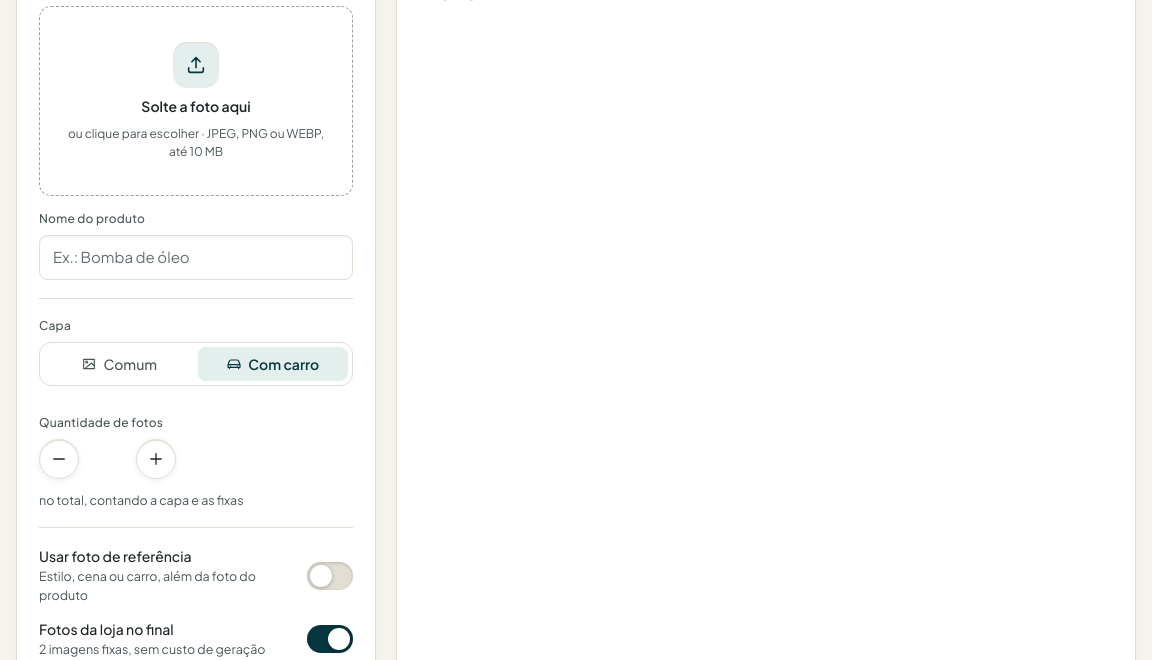
Test case: BuildKit: quantidade › o resumo diz quantas fotos serão geradas e quantas são fixas
Click the switch named "Fotos da loja no final" at x=330, y=639, box 307,625 -> 353,653
(page scrolled)
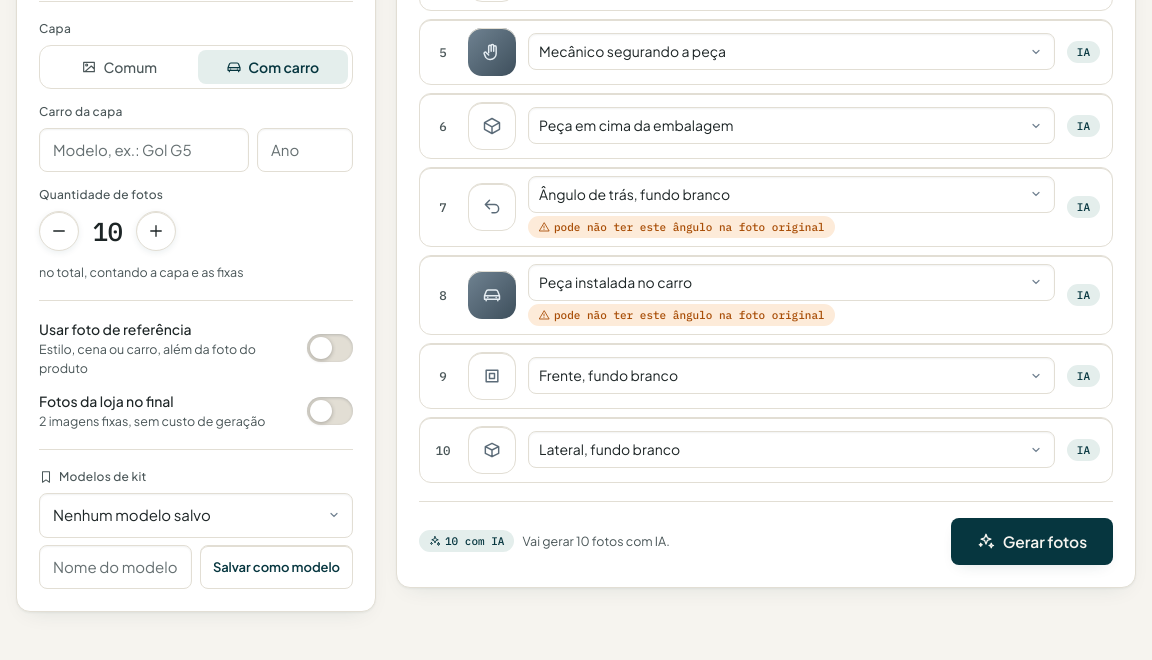
Result: the text with test id "resumo" reads "Vai gerar 10 fotos com IA." at 522,533 -> 670,549
